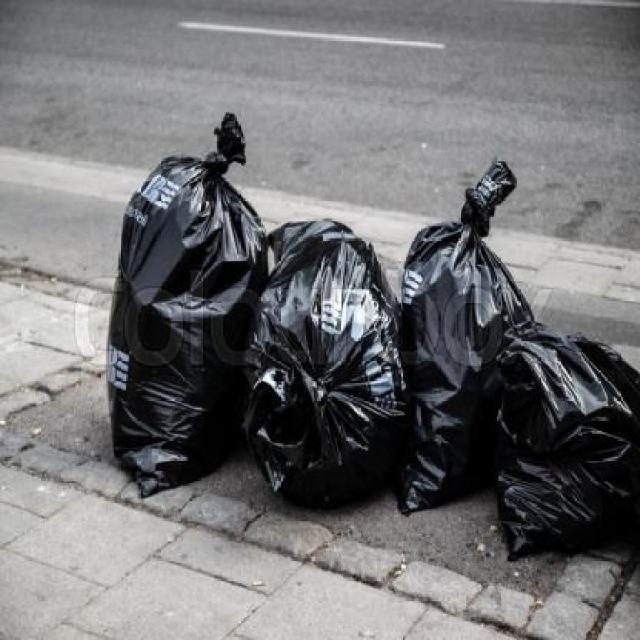garbage: (99, 105, 640, 595)
